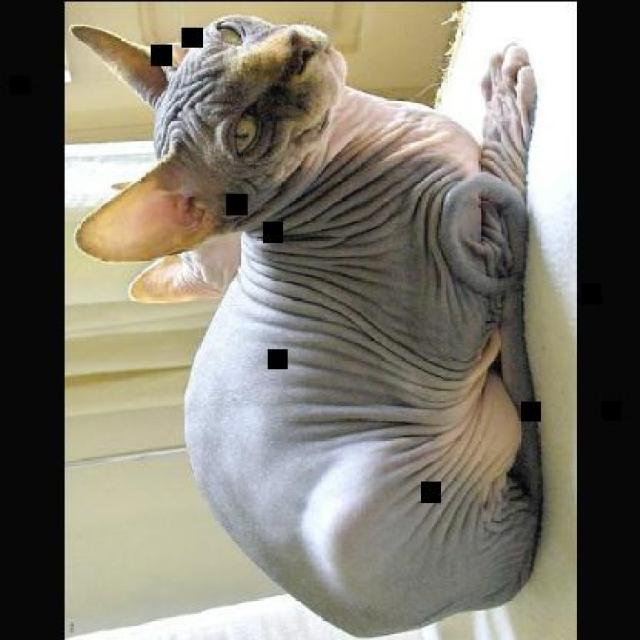unauthorized: (66, 12, 543, 638)
